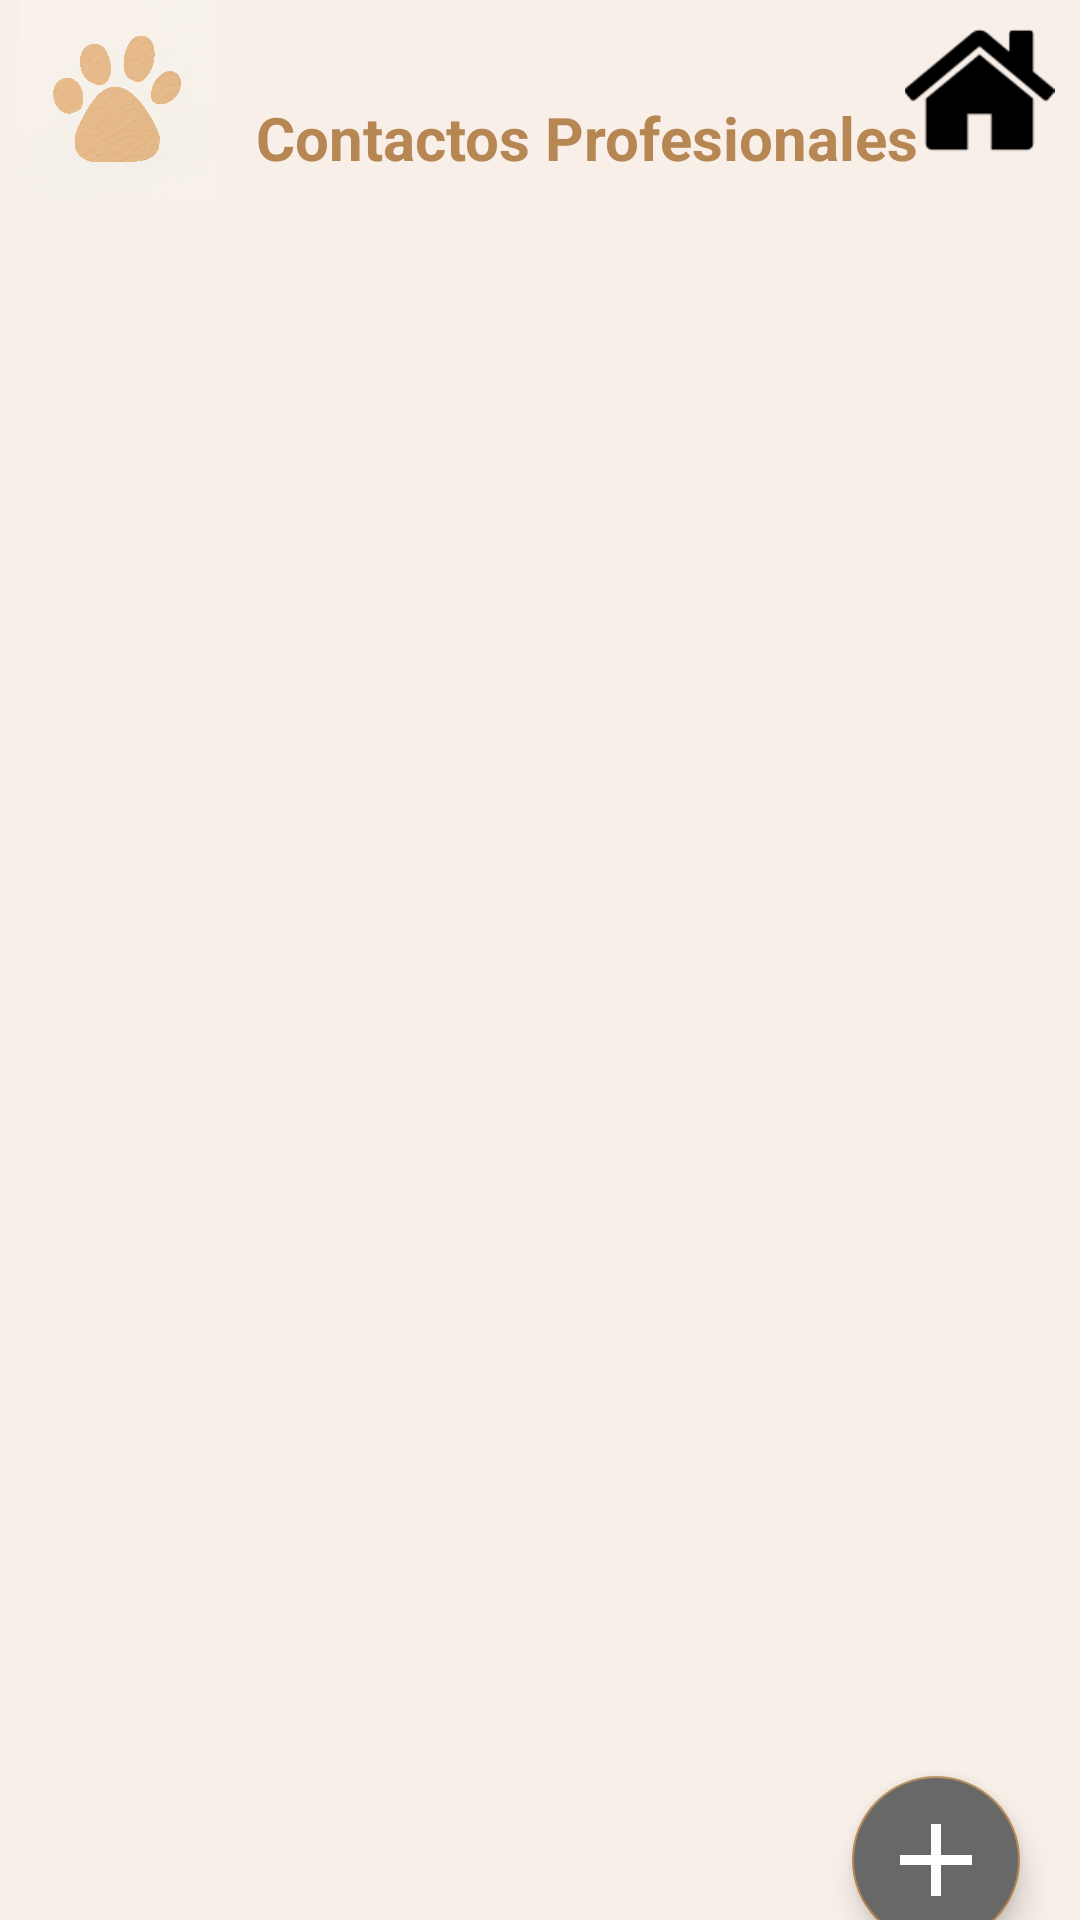

Screen size 1080 x 1920. Icon name, then its center in pixels as [x,y]:
home: [980,90]
huella: [117,99]
